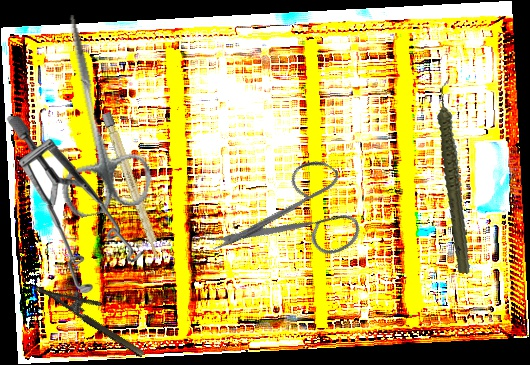Handpiece: (417, 79, 494, 275)
Iris Scissors: (205, 132, 383, 313), (23, 5, 159, 221)
Needle Holder: (33, 268, 155, 359)
Scalpel Handle: (101, 111, 164, 261)
Speculum: (2, 116, 147, 294)
